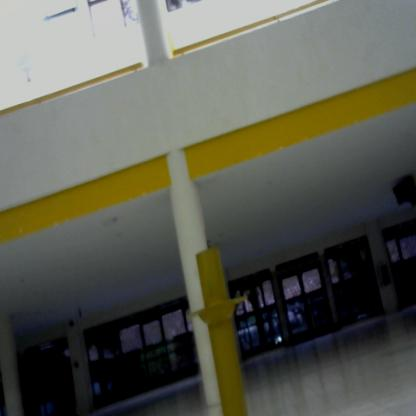pole: (190, 242, 256, 416)
